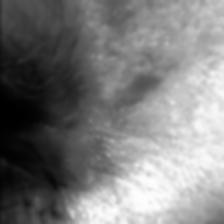Potentially Malignant Skin Tumors: (102, 70, 160, 110), (11, 201, 67, 224)
